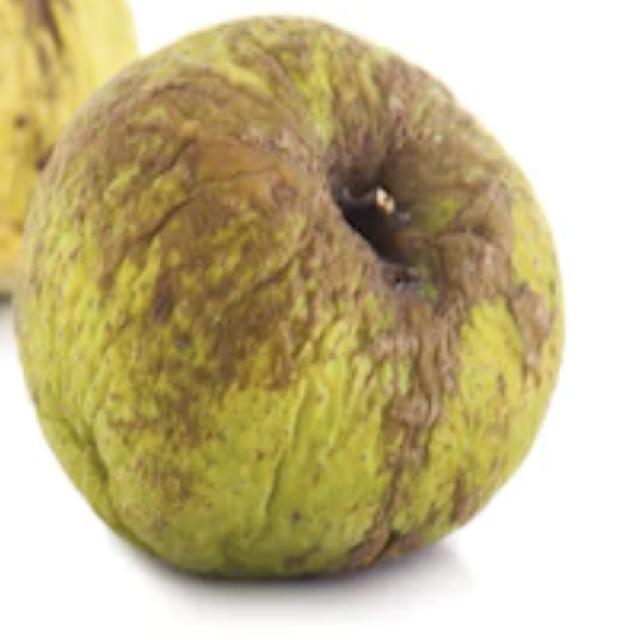Rotten: (44, 37, 598, 573)
